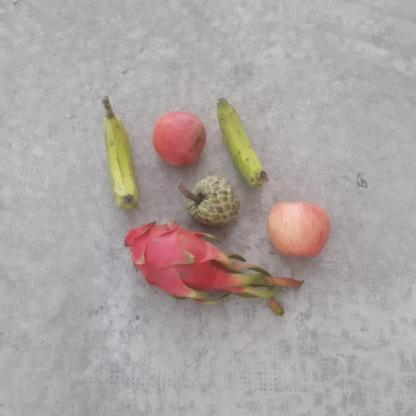annona: (182, 174, 242, 228)
apple: (266, 199, 329, 262), (149, 108, 209, 167)
banana: (212, 92, 270, 190), (99, 113, 143, 202)
pitaya: (123, 221, 227, 302)
